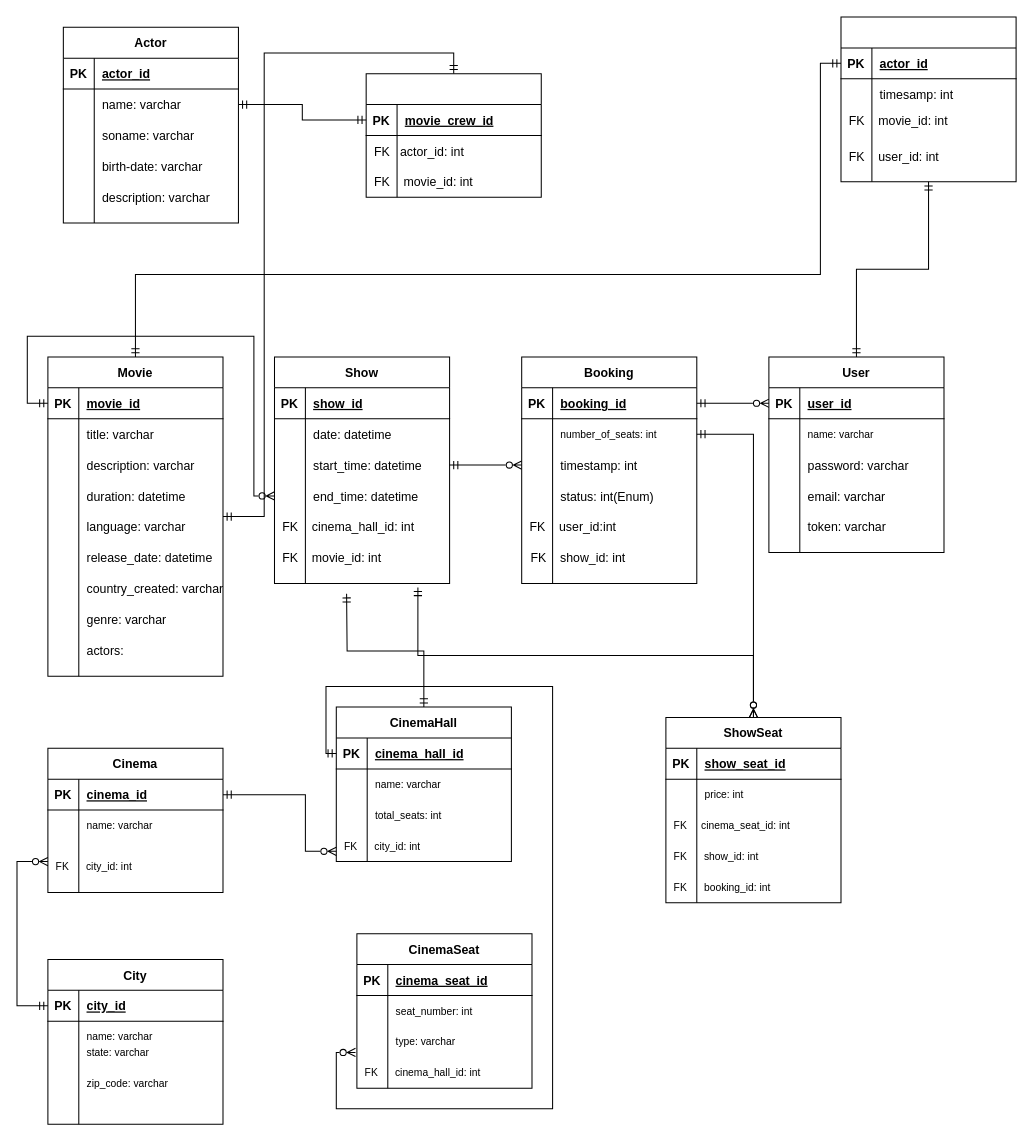
Image size: 1033x1141. Some labels were removed from this diagram. The shapes that lost their labels are listed below. From the top down, each one's box as (x1, y1, x2, y2) in pixels, then its label:
(840, 16, 1016, 182): Searches
(365, 73, 541, 197): MovieСrew
